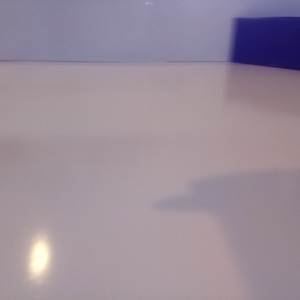zone: (228, 18, 300, 70)
